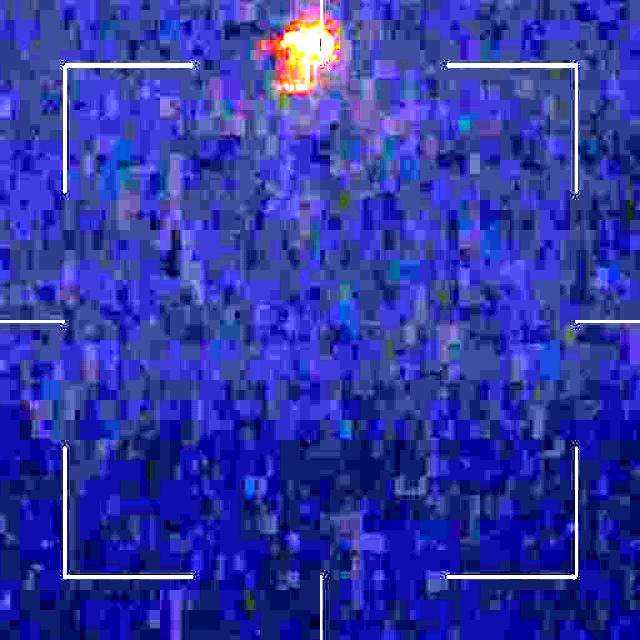bird: (259, 21, 335, 92)
